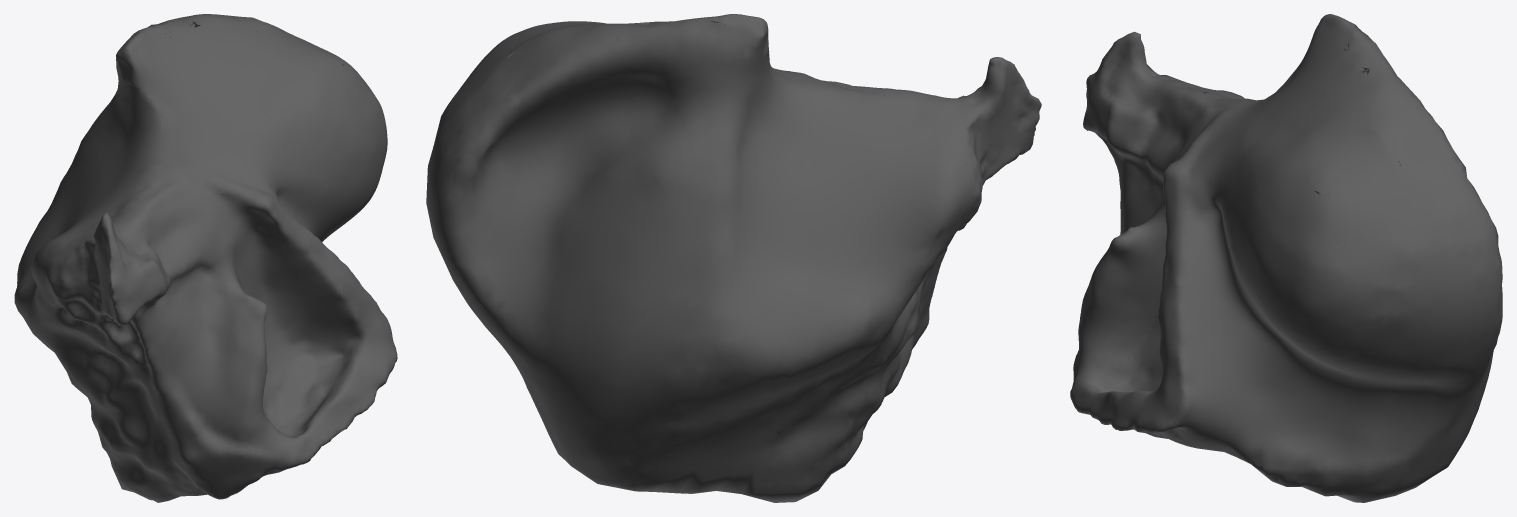
Rendered from 17_boccioni.glb.
The picture shows the model from 3 angles, left to right: view 1: azimuth 30°, elevation 25°; view 2: azimuth 150°, elevation 25°; view 3: azimuth 270°, elevation 25°; orthographic projection. The views are drawn at different scales.
Visible parts, largest first — view 1: 구체; view 2: 구체; view 3: 구체.
Part boxes in pixels (x1,y1,x2,y2): 구체: (14, 14, 397, 502); 구체: (426, 14, 1041, 502); 구체: (1070, 14, 1502, 502).
Bounding box in the file's own units: 6.65 × 7 × 6.
Materials: 1 (1 with a texture image).
